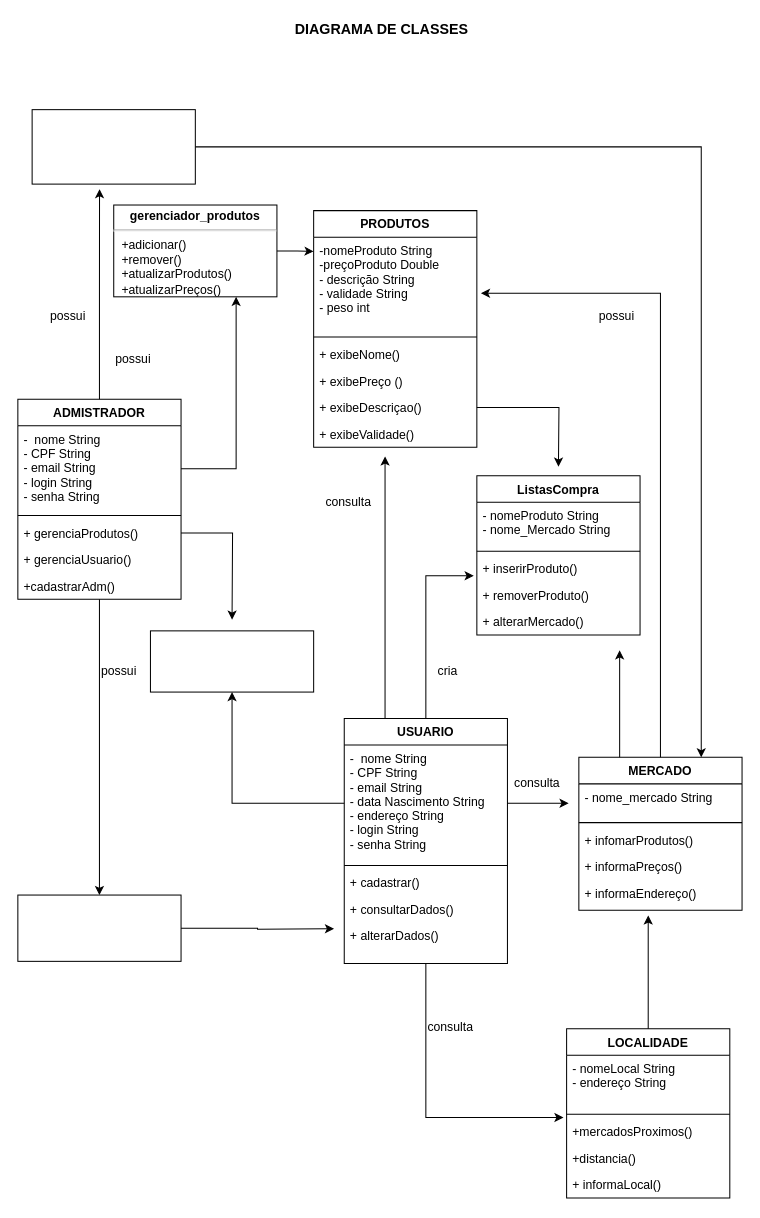
This 760x1218 diagram has some shape labels left out. Each missing label, with the centre of its shape:
gerenciador_mercado +adicionarMercado() +removerMercado(): [113,146]
gerenciador_Usuario +removerUsuario(): [99,927]
Login +validarLogin(): [231,661]
